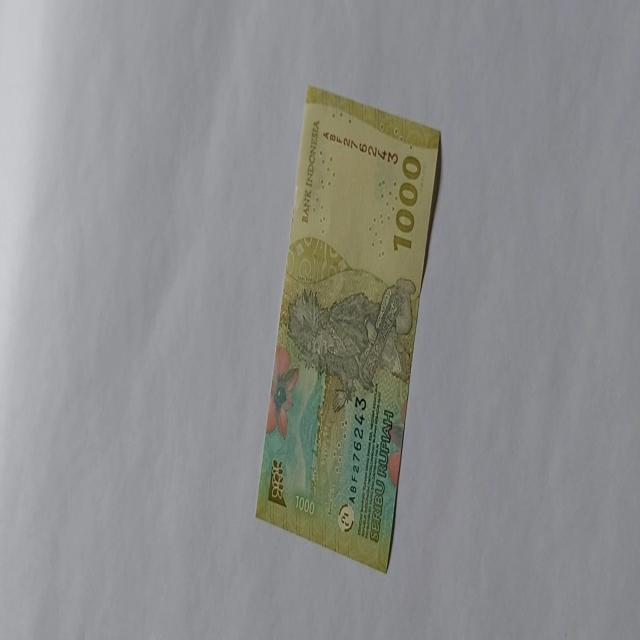seribu rupiah kertas: (254, 84, 441, 574)
